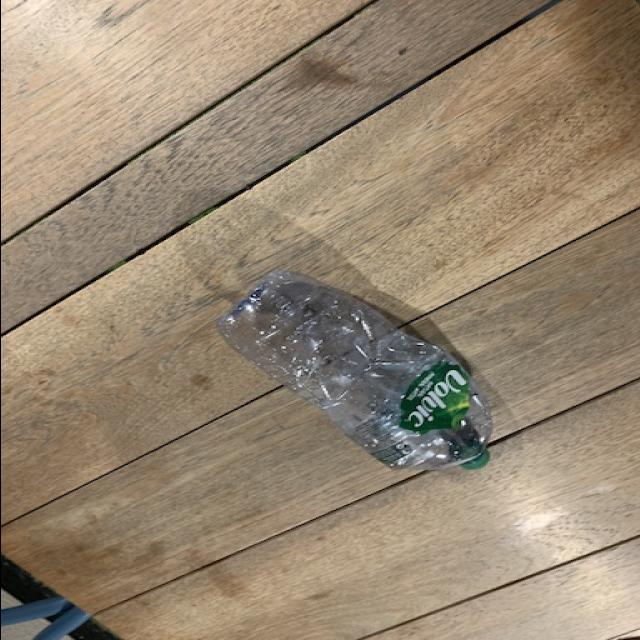litter: (208, 269, 492, 475)
